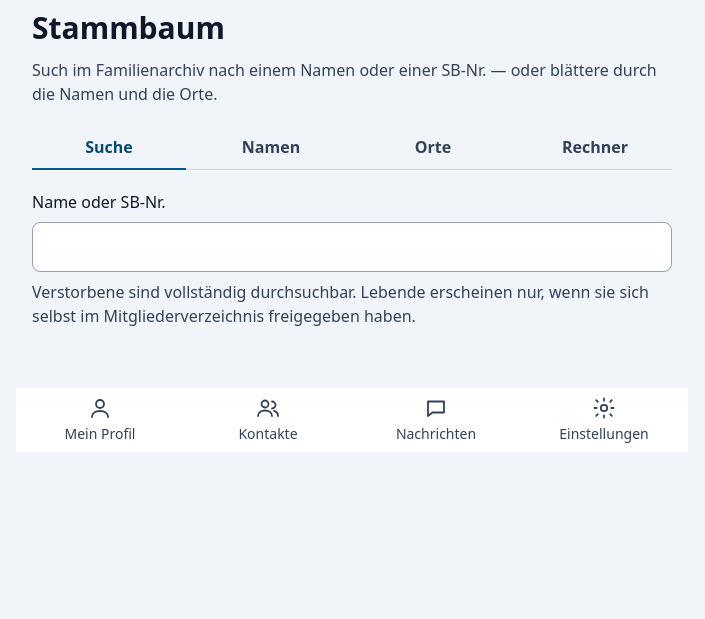
it: searching the archive › finds a person and shows the years, the number and the relationship
Type "Bertha" into the search field labelled "Name oder SB-Nr." at (352, 247), box [32,222,672,272]
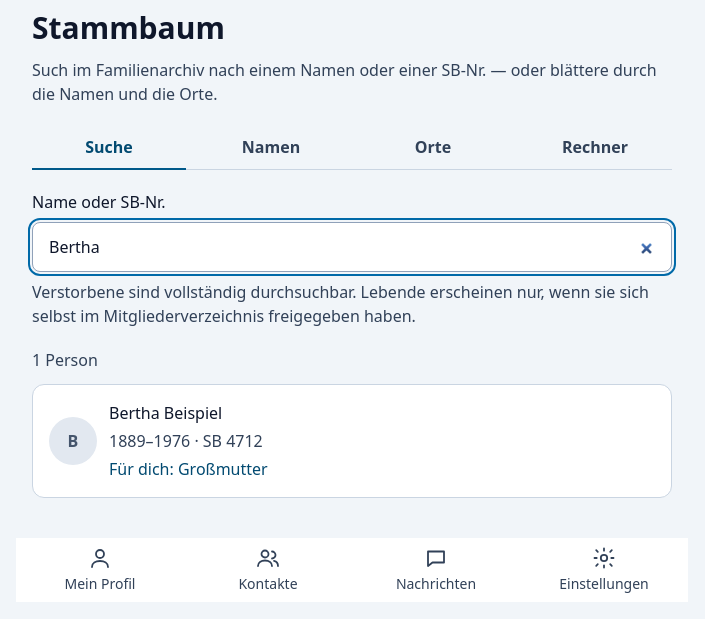
Check: the link "B Bertha Beispiel 1889–1976 · SB 4712 Für dich: Großmutter" is shown, box [32,384,672,498]
